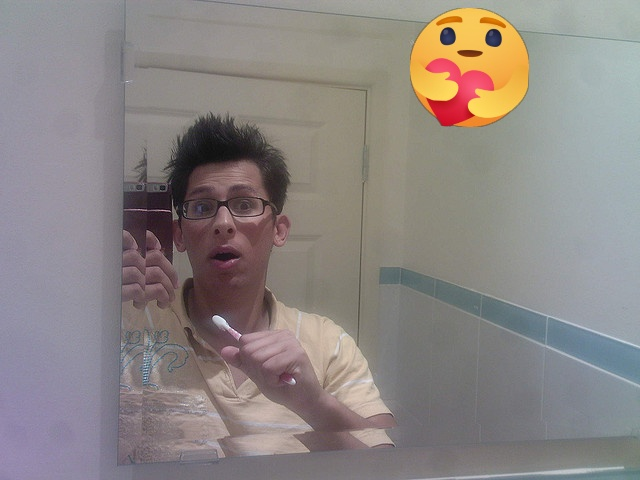care: (410, 8, 529, 127)
